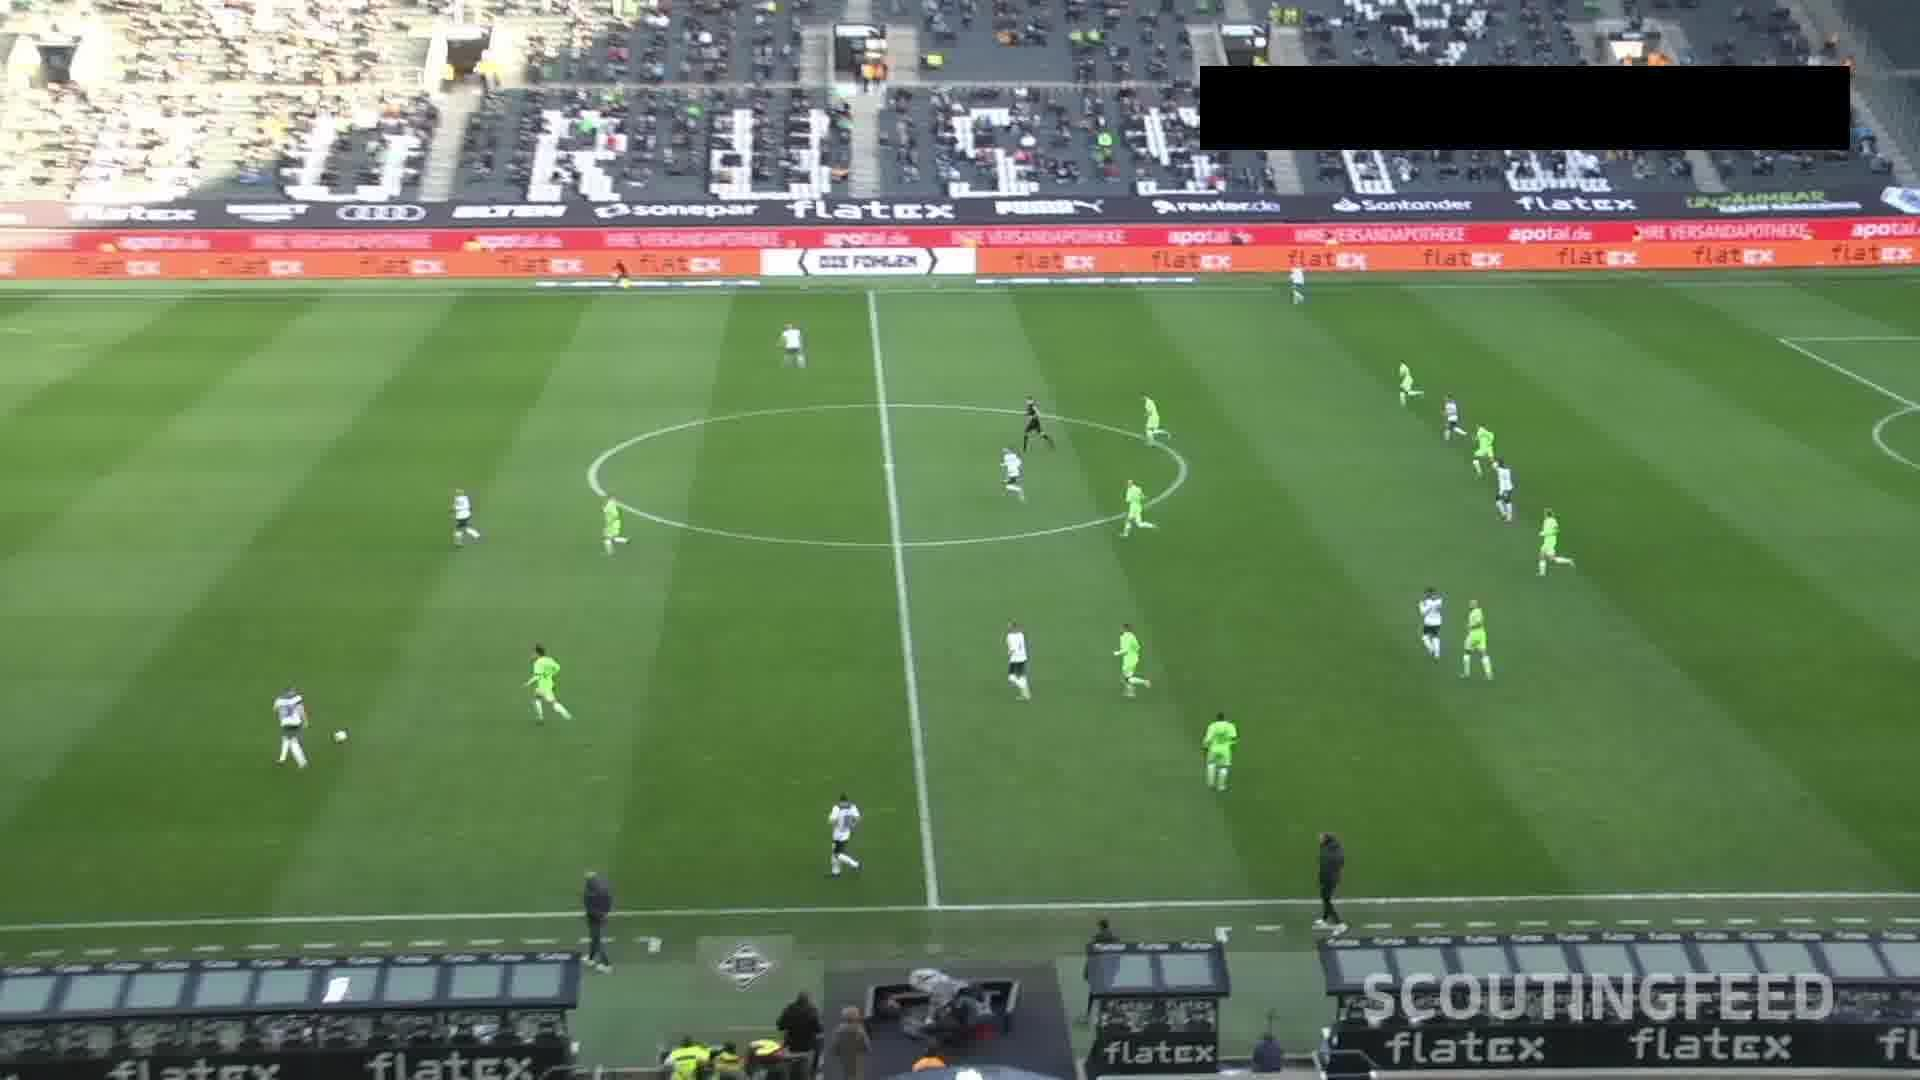football: (330, 728, 351, 744)
